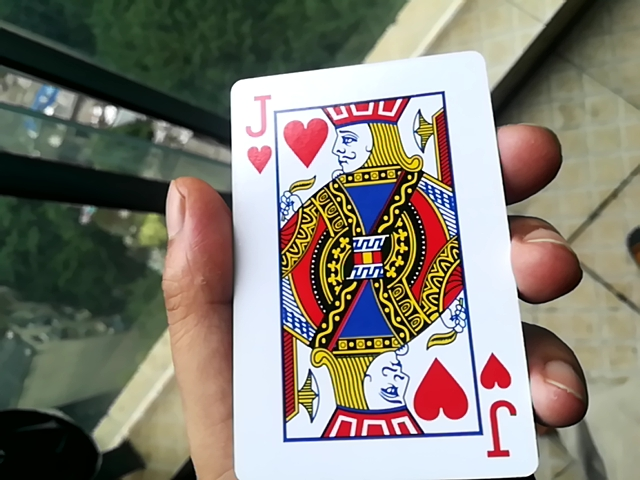hx j: (221, 41, 528, 480)
